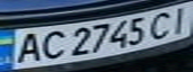2: (66, 24, 93, 57)
4: (109, 17, 133, 50)
5: (124, 13, 154, 46)
7: (87, 20, 112, 54)
A: (9, 30, 45, 64)
C: (33, 28, 69, 61), (145, 8, 178, 41)
I: (163, 3, 193, 35)
